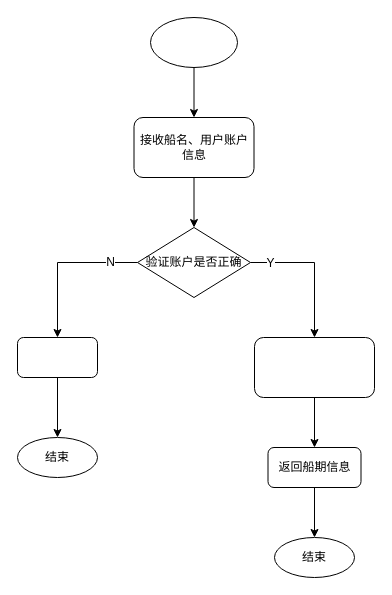
Image size: 392x595. Some labels were removed from this diagram. Here are the shapes that lost their labels. From the top down, the centre of each, then its label:
point 194,42: 开始
point 57,357: 返回账户信息错误
point 314,367: 查找船期信息（未计划靠泊，计划靠泊在45天以内）
